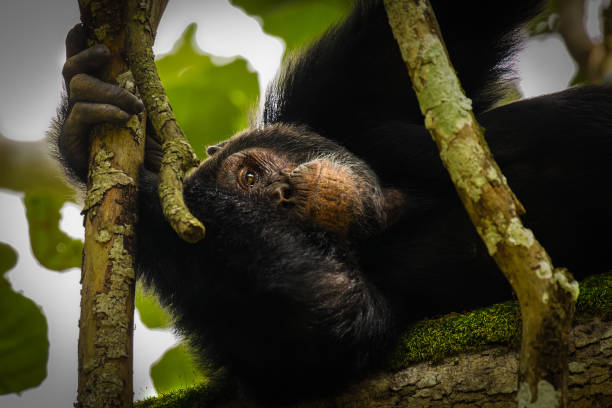chimpanzee: (190, 122, 400, 260)
